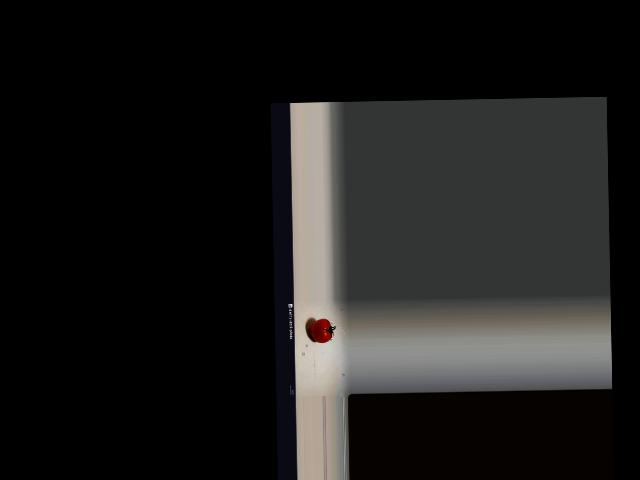tomato: (309, 319, 331, 343)
